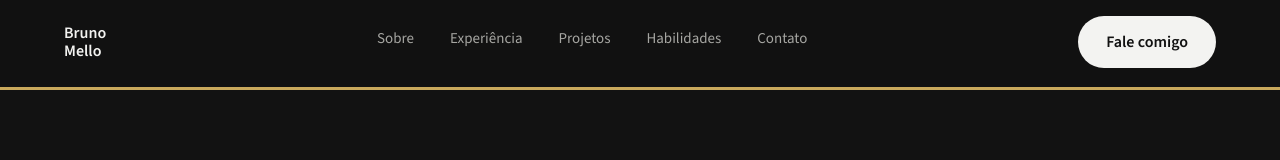
Test: nav hover scramble (SIG-44) › does not restart while a replay is running
Hover over the link "Sobre" at (395, 37), box [376,27,414,48]
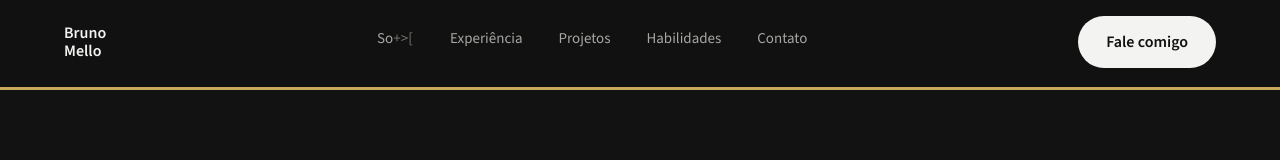
Hover over the link named "Sobre" at (395, 37), box [376,27,413,48]
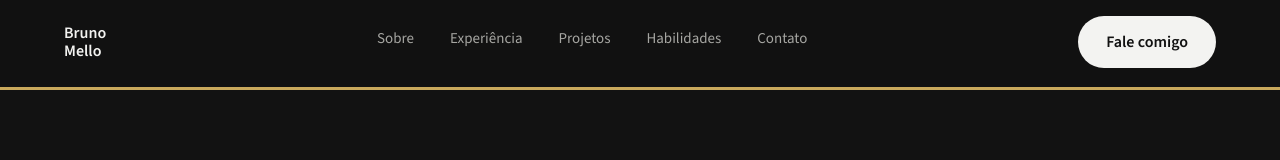
expect the text "Sobre" is shown: met, box [377,28,414,48]
